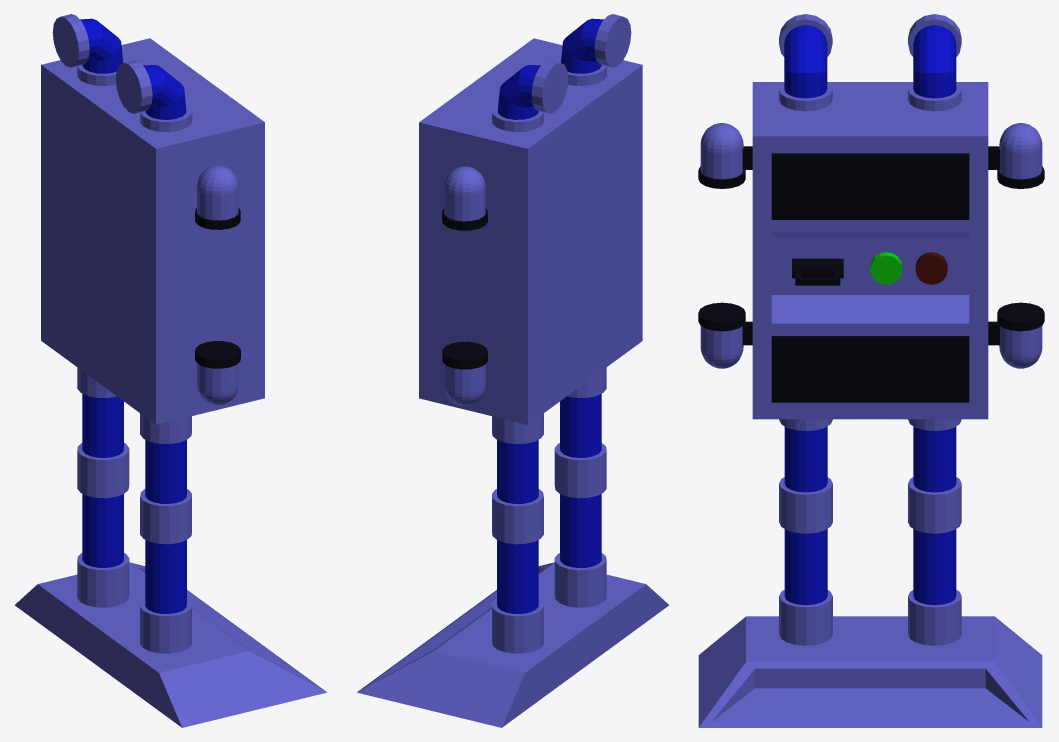
Rendered from Cooling_Terminal.obj.
3 renders of one model, left to right at view 1: azimuth 30°, elevation 25°; view 2: azimuth 150°, elevation 25°; view 3: azimuth 270°, elevation 25°, orthographic. The views are drawn at different scales.
Visible parts, largest first — view 1: Main_Cube.002, Base_Cube, Cylinder.006_Cylinder.005, Cylinder.001_Cylinder.018, Cylinder.008_Cylinder.017, Cube.004_Cube.010, Cube.005_Cube.011, Cylinder.007_Cylinder.026, Cylinder.009_Cylinder.010, Cylinder.000_Cylinder.025; view 2: Main_Cube.002, Base_Cube, Cylinder.001_Cylinder.018, Cylinder.006_Cylinder.005, Cylinder.008_Cylinder.017, Cube_Cube.008, Cube.001_Cube.009, Cylinder.007_Cylinder.026, Cylinder.009_Cylinder.010, Cylinder.000_Cylinder.025; view 3: Main_Cube.002, Base_Cube, Cube.002_Cube.003, Cube.003_Cube.004, Cylinder.001_Cylinder.018, Cylinder.006_Cylinder.005, Cylinder.008_Cylinder.017, Cylinder.007_Cylinder.026, Cube.001_Cube.009, Cube_Cube.008, Cube.005_Cube.011, Cube.004_Cube.010 (+5 smaller).
Boxes of the visible parts, x1=… form: Main_Cube.002: x1=41, y1=38, x2=264, y2=424; Base_Cube: x1=14, y1=562, x2=326, y2=727; Cylinder.006_Cylinder.005: x1=140, y1=413, x2=191, y2=653; Cylinder.001_Cylinder.018: x1=77, y1=367, x2=129, y2=607; Cylinder.008_Cylinder.017: x1=115, y1=60, x2=192, y2=131; Cube.004_Cube.010: x1=195, y1=165, x2=240, y2=229; Cube.005_Cube.011: x1=195, y1=341, x2=240, y2=405; Cylinder.007_Cylinder.026: x1=80, y1=18, x2=123, y2=73; Cylinder.009_Cylinder.010: x1=52, y1=14, x2=89, y2=67; Cylinder.000_Cylinder.025: x1=77, y1=58, x2=127, y2=85; Main_Cube.002: x1=419, y1=38, x2=642, y2=424; Base_Cube: x1=357, y1=562, x2=668, y2=727; Cylinder.001_Cylinder.018: x1=492, y1=413, x2=543, y2=653; Cylinder.006_Cylinder.005: x1=554, y1=367, x2=606, y2=607; Cylinder.008_Cylinder.017: x1=556, y1=14, x2=631, y2=85; Cube_Cube.008: x1=442, y1=166, x2=487, y2=230; Cube.001_Cube.009: x1=442, y1=341, x2=487, y2=405; Cylinder.007_Cylinder.026: x1=497, y1=65, x2=540, y2=119; Cylinder.009_Cylinder.010: x1=531, y1=60, x2=568, y2=113; Cylinder.000_Cylinder.025: x1=492, y1=104, x2=543, y2=131; Main_Cube.002: x1=752, y1=82, x2=988, y2=419; Base_Cube: x1=698, y1=616, x2=1042, y2=727; Cube.002_Cube.003: x1=771, y1=153, x2=969, y2=219; Cube.003_Cube.004: x1=771, y1=336, x2=969, y2=402; Cylinder.001_Cylinder.018: x1=908, y1=419, x2=961, y2=645; Cylinder.006_Cylinder.005: x1=779, y1=419, x2=832, y2=645; Cylinder.008_Cylinder.017: x1=779, y1=14, x2=832, y2=111; Cylinder.007_Cylinder.026: x1=913, y1=25, x2=956, y2=98; Cube.001_Cube.009: x1=988, y1=302, x2=1044, y2=368; Cube_Cube.008: x1=988, y1=123, x2=1044, y2=188; Cube.005_Cube.011: x1=698, y1=302, x2=752, y2=368; Cube.004_Cube.010: x1=698, y1=123, x2=752, y2=188.
Size of the model in its own units: 2.01 by 8.22 by 4.03.
